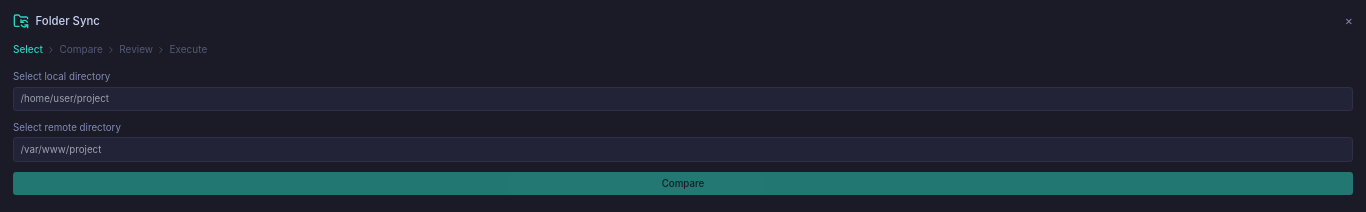
Scenario: FolderSyncWizard › compares directories and lists changed entries
The width and height of the screenshot is (1366, 212).
Type "/local/project" into the field with placeholder "/home/user/project".
click(683, 99); type("/local/project")  # box [13, 86, 1353, 111]
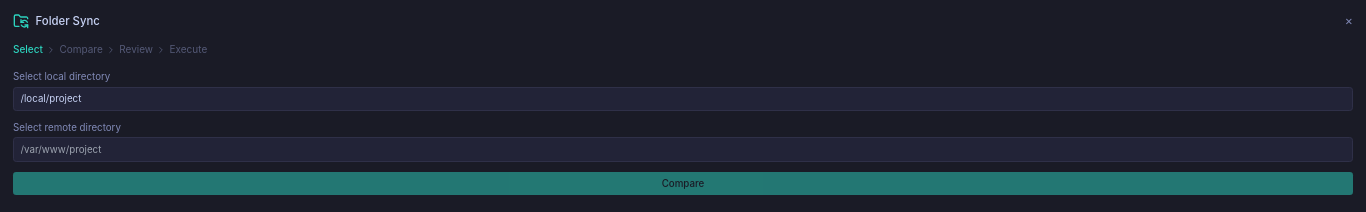
Type "/remote/project" into the field with placeholder "/var/www/project".
click(683, 150); type("/remote/project")  # box [13, 137, 1353, 162]
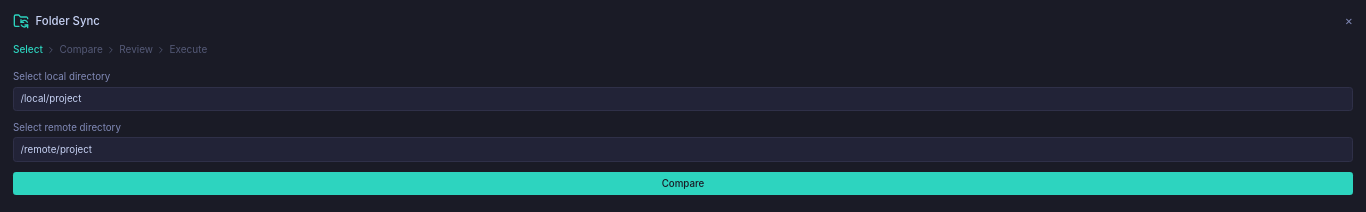
Click the button "Compare".
click(683, 183)  # box [13, 172, 1353, 195]
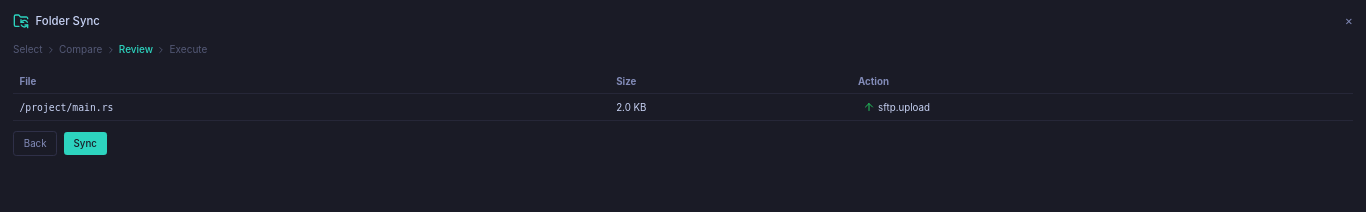
Expected: the text "/project/main.rs" is shown, [13, 94, 610, 120]
Expected: the text "2.0 KB" is shown, [610, 94, 852, 120]
